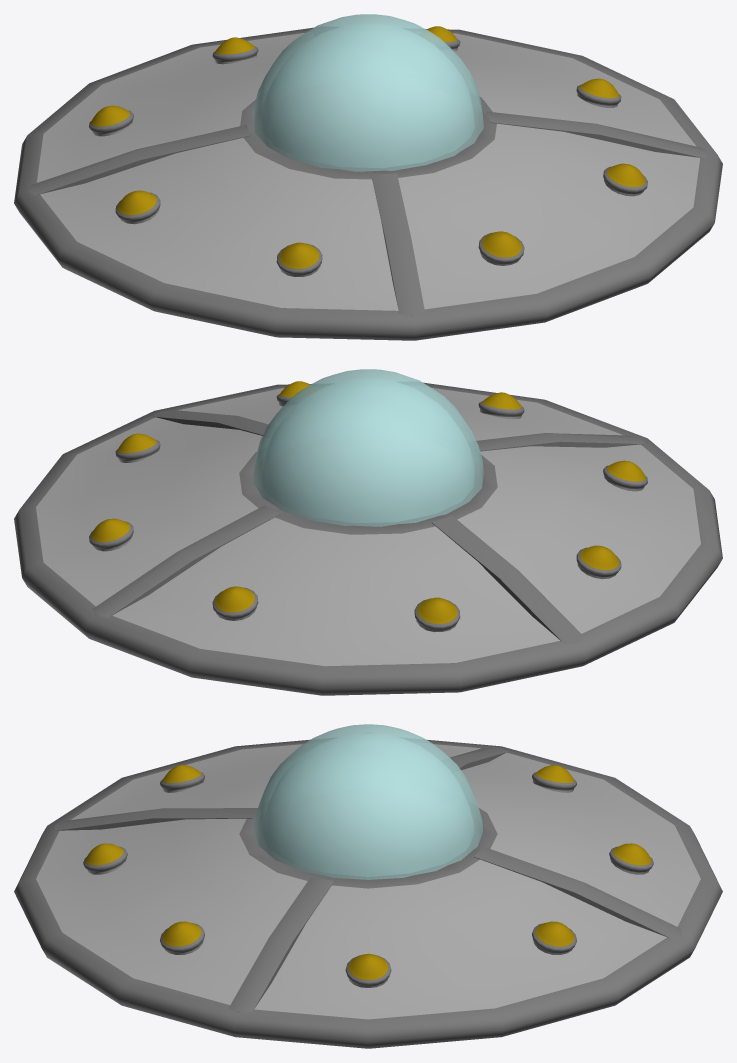
The model's file is UfoLowPoly.fbx.
3 renders of one model, top to bottom at view 1: azimuth 30°, elevation 25°; view 2: azimuth 150°, elevation 25°; view 3: azimuth 270°, elevation 25°, orthographic.
Parts seen in each view (by area): view 1: UfoBody, Dome; view 2: UfoBody, Dome; view 3: UfoBody, Dome.
Part boxes in pixels (left/top/right/bottom): UfoBody: left=14, top=26, right=722, bottom=340; Dome: left=253, top=14, right=483, bottom=171; UfoBody: left=14, top=381, right=722, bottom=695; Dome: left=253, top=369, right=483, bottom=526; UfoBody: left=14, top=739, right=722, bottom=1048; Dome: left=254, top=724, right=482, bottom=879.
Bounding box in the file's own units: 8.1 × 2.97 × 8.1.
